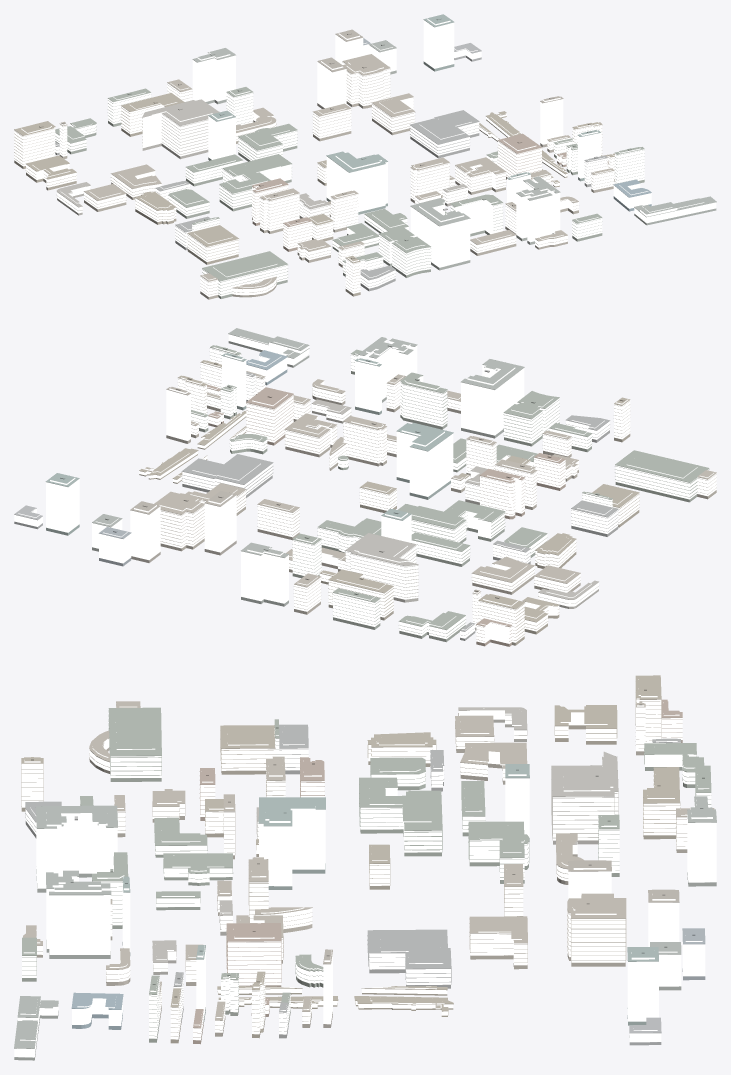
Rendered from buildings--9_2-fine.glb.
3 views of the same model, one above another, from view 1: azimuth 30°, elevation 25°; view 2: azimuth 150°, elevation 25°; view 3: azimuth 270°, elevation 25° (orthographic). The views are drawn at different scales.
Parts seen in each view (by area): view 1: block_-9_2_residential, block_-9_2_roof, block_-9_2_office, block_-9_2_darkglass, block_-9_2_concrete, block_-9_2_steel; view 2: block_-9_2_residential, block_-9_2_roof, block_-9_2_office, block_-9_2_darkglass, block_-9_2_concrete, block_-9_2_steel; view 3: block_-9_2_roof, block_-9_2_residential, block_-9_2_office, block_-9_2_darkglass, block_-9_2_concrete, block_-9_2_steel.
Part boxes in pixels (<box>): block_-9_2_residential: <box>14,62,644,296</box>; block_-9_2_roof: <box>14,14,716,296</box>; block_-9_2_office: <box>192,18,716,267</box>; block_-9_2_darkglass: <box>14,55,716,299</box>; block_-9_2_concrete: <box>14,61,644,294</box>; block_-9_2_steel: <box>194,19,716,226</box>; block_-9_2_residential: <box>139,347,716,643</box>; block_-9_2_roof: <box>14,328,716,641</box>; block_-9_2_office: <box>14,334,524,603</box>; block_-9_2_darkglass: <box>14,341,716,646</box>; block_-9_2_concrete: <box>139,347,716,641</box>; block_-9_2_steel: <box>14,333,524,557</box>; block_-9_2_roof: <box>14,675,716,1057</box>; block_-9_2_residential: <box>21,679,711,1040</box>; block_-9_2_office: <box>14,774,716,1057</box>; block_-9_2_darkglass: <box>14,719,716,1060</box>; block_-9_2_concrete: <box>21,675,710,1037</box>; block_-9_2_steel: <box>14,777,716,1048</box>.
Bounding box in the file's own units: 660 × 60.45 × 575.
